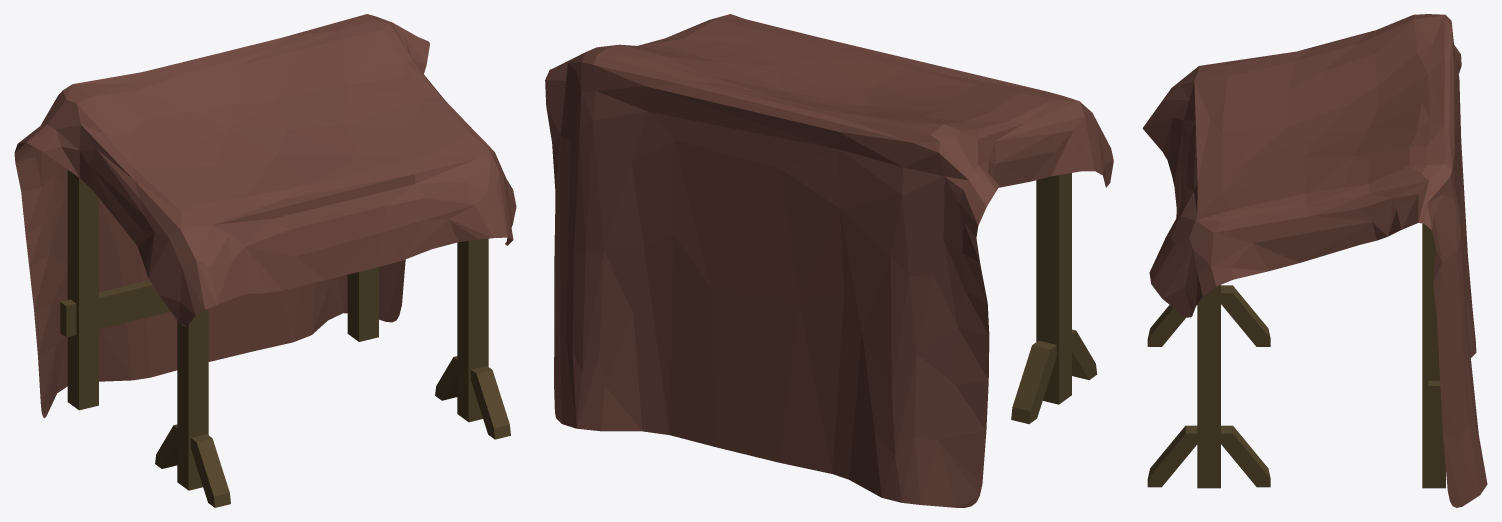
File: fantasy_market_stall_1.fbx
The picture shows the model from 3 angles, left to right: view 1: azimuth 30°, elevation 25°; view 2: azimuth 150°, elevation 25°; view 3: azimuth 270°, elevation 25°; orthographic projection. The views are drawn at different scales.
Visible parts, largest first — view 1: Plane.006, Cube.062; view 2: Plane.006, Cube.062; view 3: Plane.006, Cube.062.
Part boxes in pixels (x1,y1,x2,y2): Plane.006: [14, 14, 516, 417]; Cube.062: [60, 170, 510, 507]; Plane.006: [545, 14, 1113, 507]; Cube.062: [1011, 173, 1097, 423]; Plane.006: [1142, 14, 1487, 507]; Cube.062: [1147, 223, 1445, 488].
Bounding box in the file's own units: 399 × 310 × 292.
